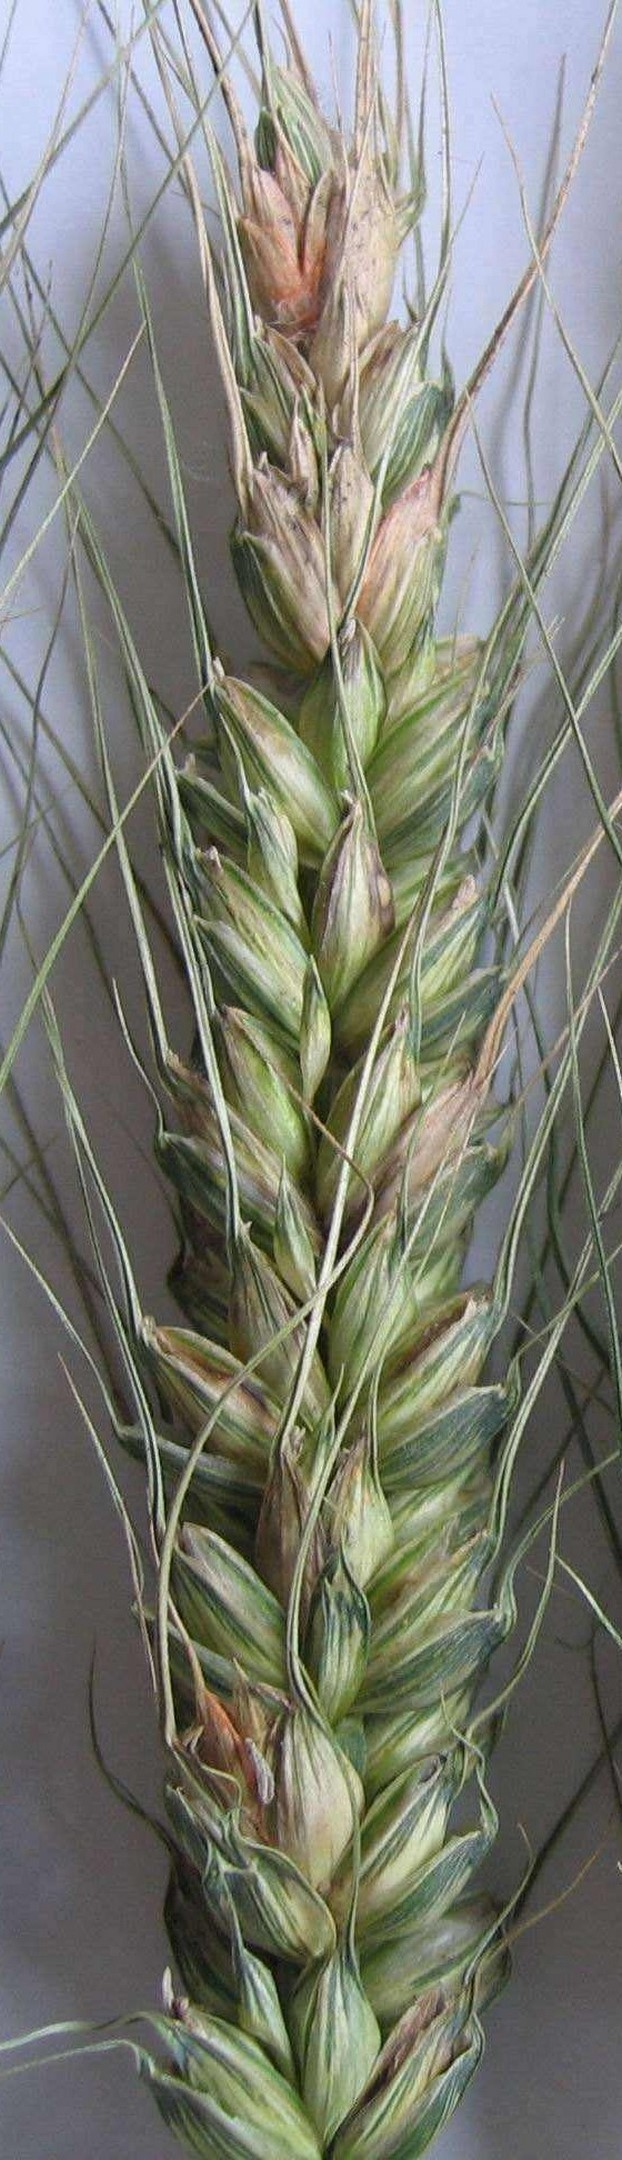Wheat scab: (89, 34, 561, 2159)
